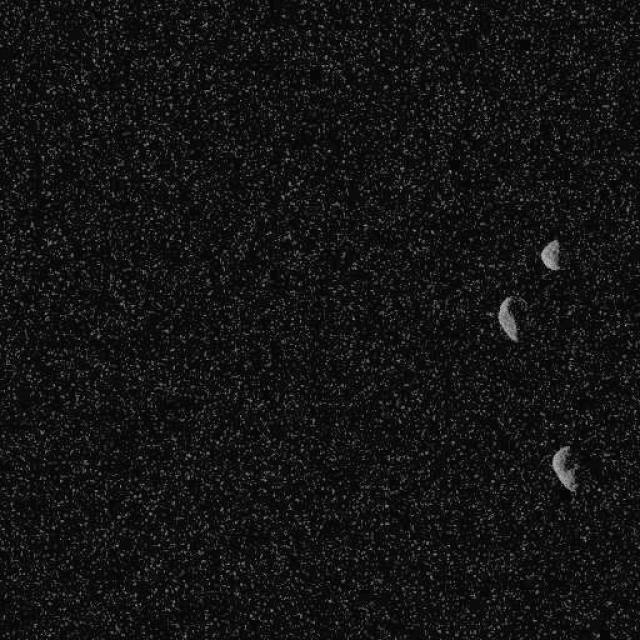D2: (550, 443, 580, 492), (496, 294, 519, 342), (539, 238, 561, 272)
